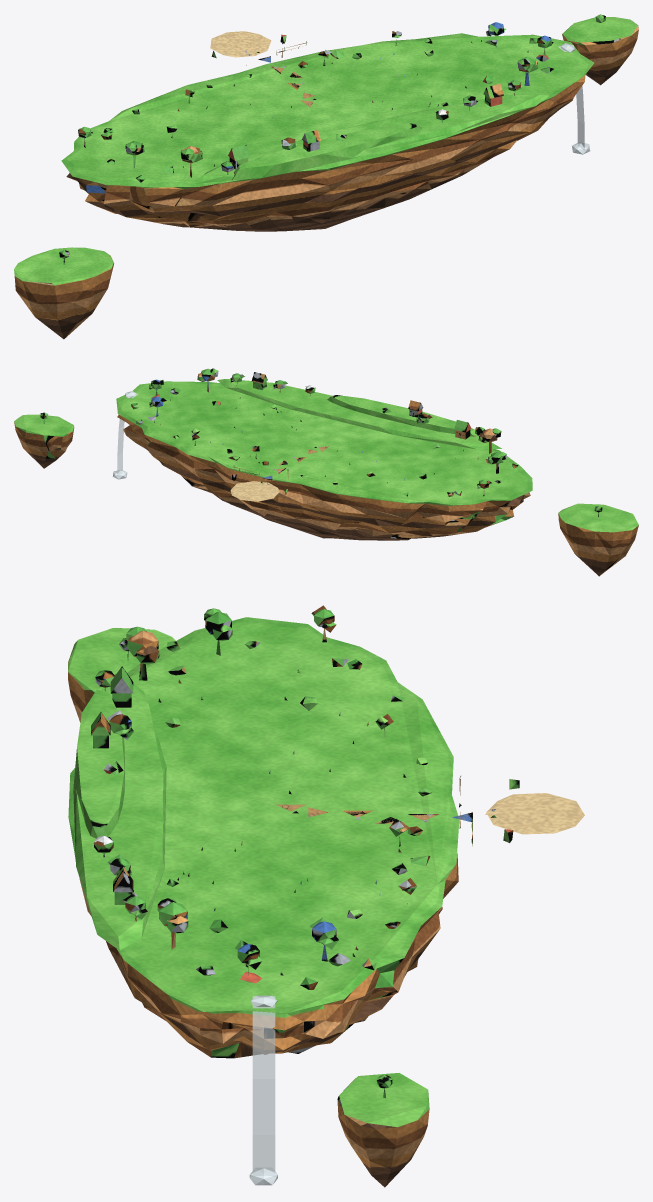
File: Island_Sunnyville_LOD2.fbx
3 views of the same model, one above another, from view 1: azimuth 30°, elevation 25°; view 2: azimuth 150°, elevation 25°; view 3: azimuth 270°, elevation 25° (orthographic). The views are drawn at different scales.
Visible parts, largest first — view 1: Island_Sunnyville_Mesh, Island_Sunnyville, VFX_Waterfall_Placeholder; view 2: Island_Sunnyville_Mesh, Island_Sunnyville, VFX_Waterfall_Placeholder; view 3: Island_Sunnyville_Mesh, Island_Sunnyville, VFX_Waterfall_Placeholder.
Boxes of the visible parts, bbox=[...] form: Island_Sunnyville_Mesh: bbox=[61, 22, 594, 231]; Island_Sunnyville: bbox=[14, 14, 638, 339]; VFX_Waterfall_Placeholder: bbox=[558, 43, 590, 154]; Island_Sunnyville_Mesh: bbox=[116, 368, 532, 540]; Island_Sunnyville: bbox=[14, 412, 638, 576]; VFX_Waterfall_Placeholder: bbox=[112, 391, 137, 479]; Island_Sunnyville_Mesh: bbox=[68, 605, 584, 1058]; Island_Sunnyville: bbox=[68, 628, 429, 1187]; VFX_Waterfall_Placeholder: bbox=[249, 995, 277, 1185].
Size of what is drawn, in the model's own units: 84.85 by 18.34 by 34.26.
2 materials, 1 textured.
